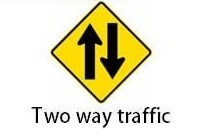Traffic signal: (51, 1, 152, 103)
